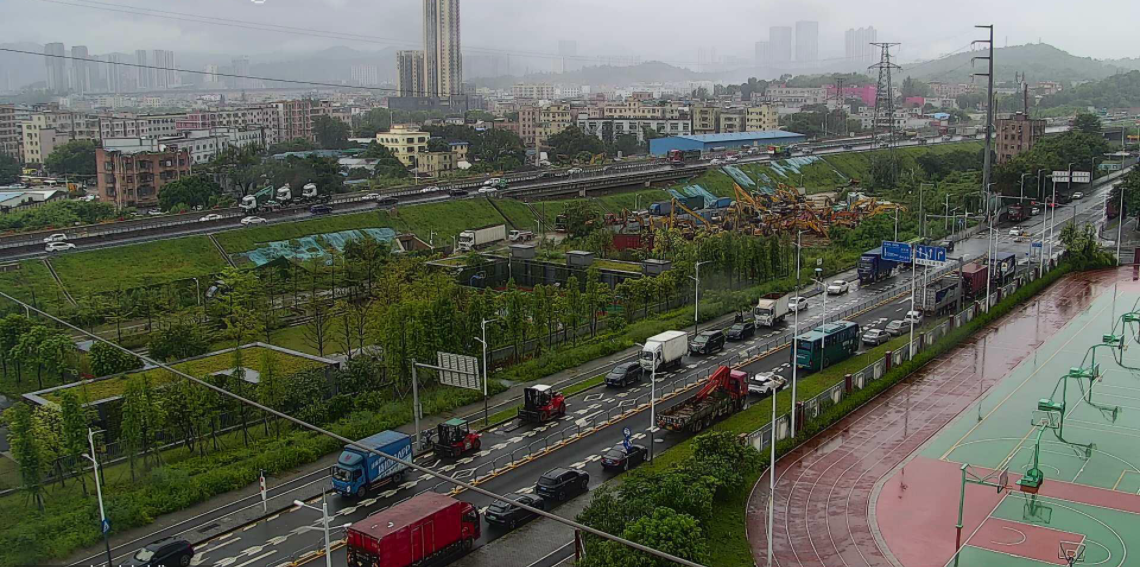绿膜: (238, 227, 396, 266), (769, 155, 819, 178), (682, 183, 718, 208), (722, 163, 755, 187), (665, 188, 684, 199), (757, 172, 771, 182), (759, 186, 774, 195)
